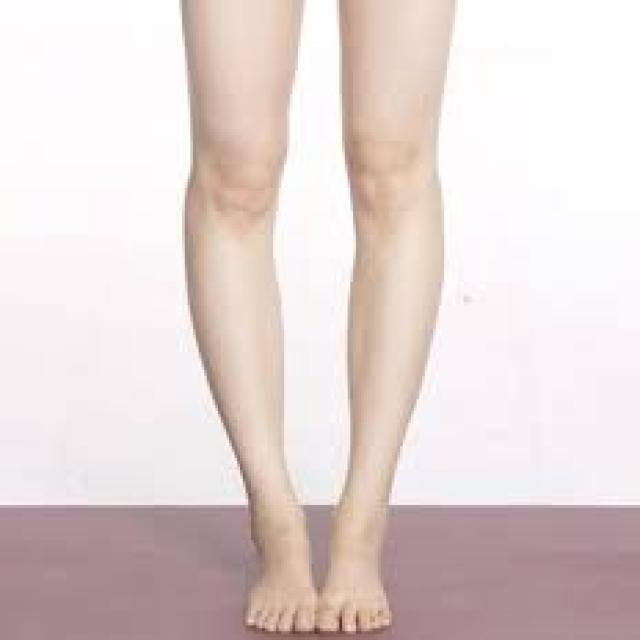Normal: (159, 132, 475, 462)
